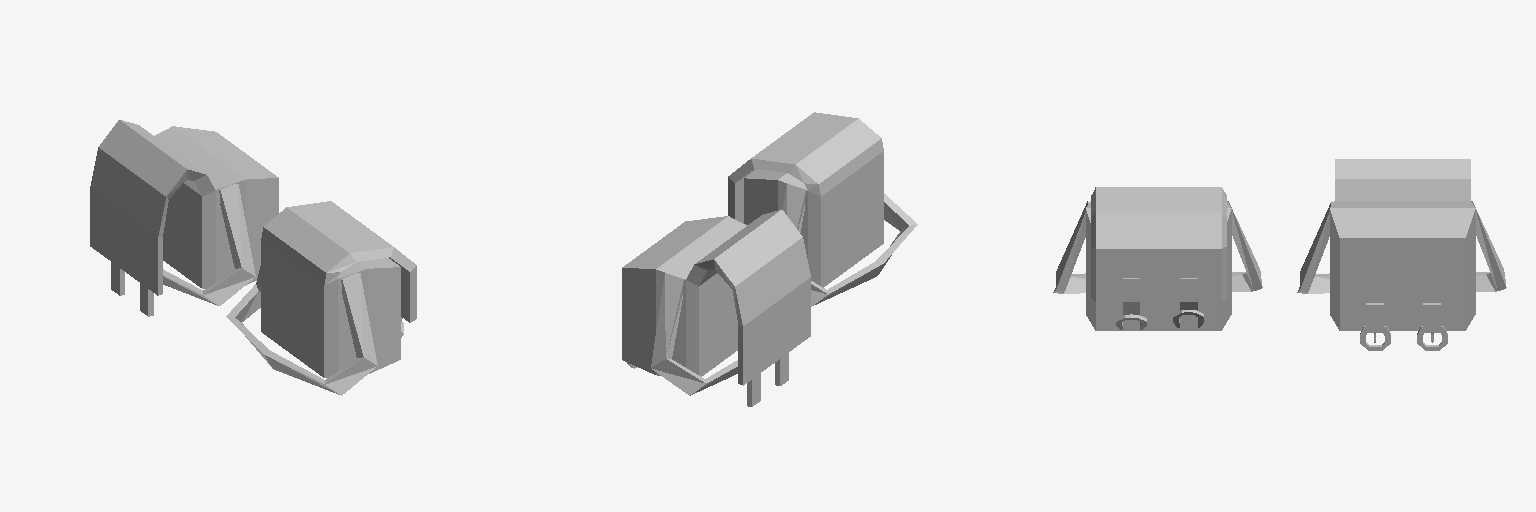
The model's file is ShoulderBags.obj.
3 views of the same model, side by side, from view 1: azimuth 30°, elevation 25°; view 2: azimuth 150°, elevation 25°; view 3: azimuth 270°, elevation 25° (orthographic).
Parts seen in each view (by area): view 1: pCube1, pCube2, pCube18, pCube19; view 2: pCube1, pCube2, pCube19, pCube18; view 3: pCube1, pCube2, pCube19, pCube18, pCube15, pCube5.
Part boxes in pixels (left/top/right/bottom): pCube1: left=90, top=120, right=278, bottom=295; pCube2: left=261, top=201, right=416, bottom=377; pCube18: left=226, top=266, right=377, bottom=395; pCube19: left=154, top=130, right=255, bottom=305; pCube1: left=622, top=209, right=810, bottom=385; pCube2: left=728, top=112, right=883, bottom=287; pCube19: left=651, top=222, right=747, bottom=395; pCube18: left=783, top=184, right=917, bottom=306; pCube1: left=1330, top=159, right=1475, bottom=330; pCube2: left=1086, top=187, right=1231, bottom=330; pCube19: left=1297, top=201, right=1506, bottom=293; pCube18: left=1053, top=201, right=1262, bottom=293; pCube15: left=1180, top=278, right=1197, bottom=330; pCube5: left=1123, top=278, right=1139, bottom=329.
Bounding box in the file's own units: 2.22 × 2.31 × 6.18.